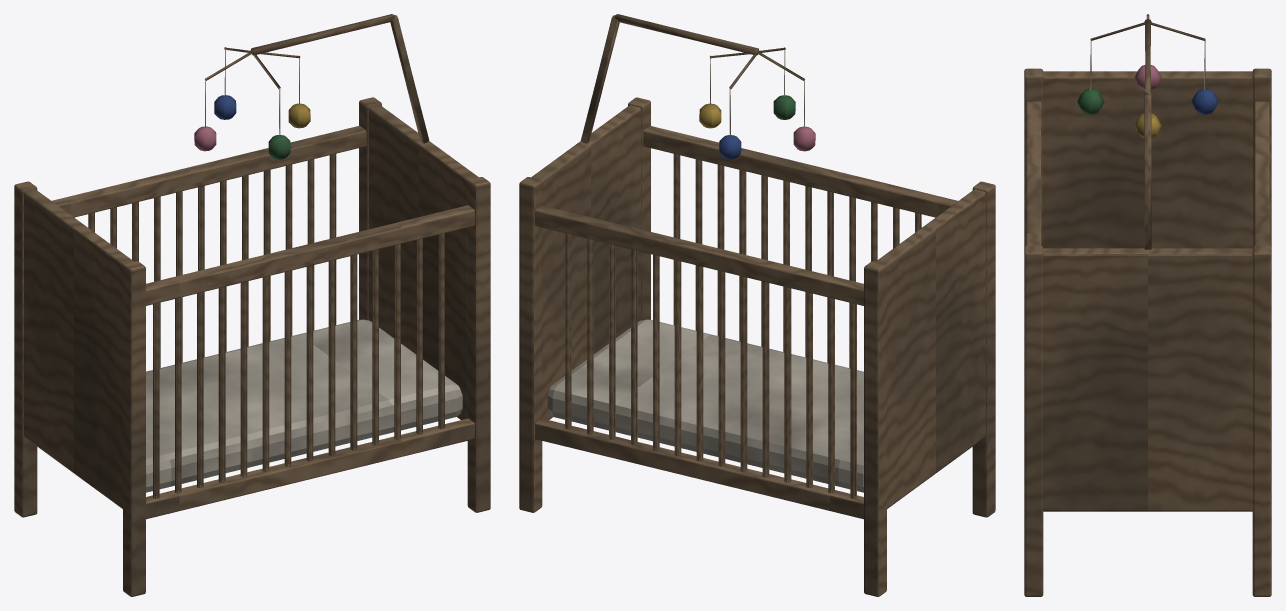
Rendered from B07_baby_crib.glb.
3 renders of one model, left to right at view 1: azimuth 30°, elevation 25°; view 2: azimuth 150°, elevation 25°; view 3: azimuth 270°, elevation 25°, orthographic. The views are drawn at different scales.
Parts seen in each view (by area): view 1: B07_baby_crib; view 2: B07_baby_crib; view 3: B07_baby_crib.
Part boxes in pixels (bbox=[...]): B07_baby_crib: bbox=[14, 14, 490, 596]; B07_baby_crib: bbox=[519, 14, 995, 596]; B07_baby_crib: bbox=[1024, 14, 1271, 596].
Bounding box in the file's own units: 0.8156 × 1 × 0.461.
6 materials, 6 textured.
